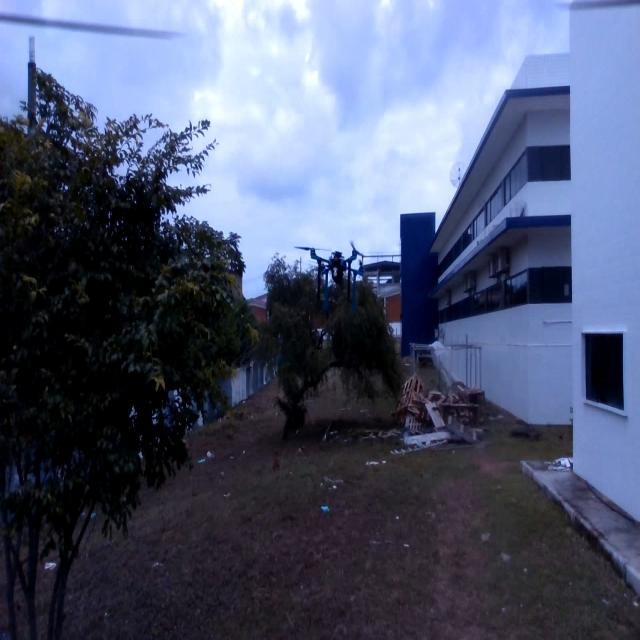-uav-: (295, 230, 369, 311)
